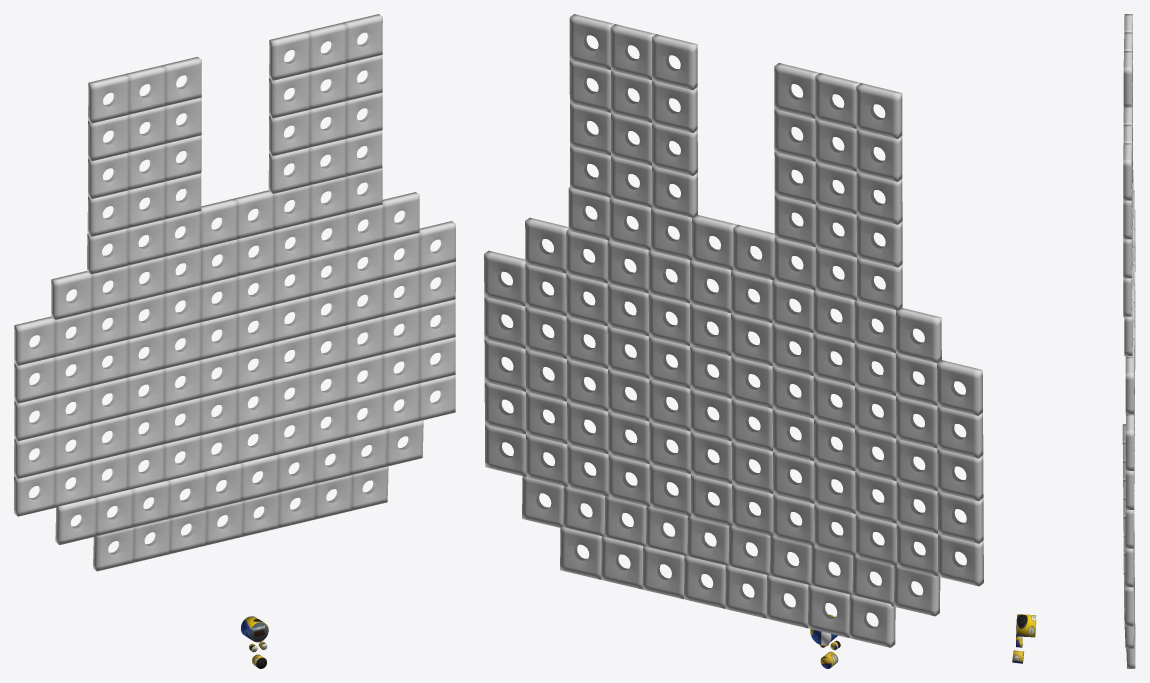
The model's file is pegboard.glb.
3 views of the same model, side by side, from view 1: azimuth 30°, elevation 25°; view 2: azimuth 150°, elevation 25°; view 3: azimuth 270°, elevation 25° (orthographic). The views are drawn at different scales.
Parts seen in each view (by area): view 1: Plane.565; view 2: Plane.565; view 3: Plane.565, Cylinder.240.
Boxes of the visible parts, x1,y1,x2,y2 form: Plane.565: (14,14,455,571); Plane.565: (484,14,983,647); Plane.565: (1122,14,1135,668); Cylinder.240: (1016,614,1036,637).
Size of the model in its own units: 24.54 by 30.67 by 5.81.
5 materials, 4 textured.
